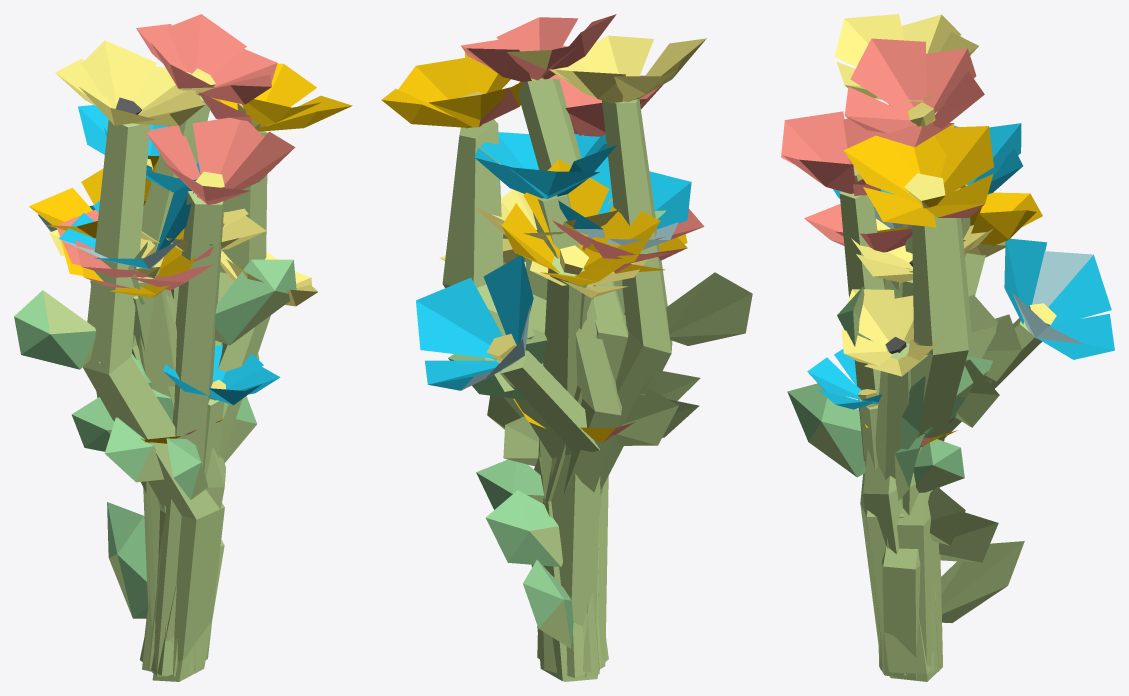
The model's file is pressed-flowers.glb.
The picture shows the model from 3 angles, left to right: view 1: azimuth 30°, elevation 25°; view 2: azimuth 150°, elevation 25°; view 3: azimuth 270°, elevation 25°; orthographic projection. The views are drawn at different scales.
Visible parts, largest first — view 1: paleflower1, redflower1, yellowflower3, redflower3, redflower2, blueflower1, paleflower3, yellowflower1, blueflower2, blueflower3, yellowflower2, paleflower2; view 2: blueflower2, yellowflower3, paleflower1, redflower3, yellowflower1, blueflower1, paleflower3, yellowflower2, redflower2, redflower1, paleflower2, blueflower3; view 3: yellowflower3, blueflower2, paleflower1, redflower3, redflower1, blueflower1, paleflower3, yellowflower1, blueflower3, paleflower2, yellowflower2, redflower2.
Part boxes in pixels (<box>): paleflower1: <box>14,40,317,661</box>; redflower1: <box>96,117,296,676</box>; yellowflower3: <box>59,63,352,626</box>; redflower3: <box>132,14,277,676</box>; redflower2: <box>56,209,224,670</box>; blueflower1: <box>59,178,225,661</box>; paleflower3: <box>98,208,266,676</box>; yellowflower1: <box>29,155,164,669</box>; blueflower2: <box>38,105,256,681</box>; blueflower3: <box>163,344,280,477</box>; yellowflower2: <box>141,418,223,599</box>; paleflower2: <box>49,229,192,675</box>; blueflower2: <box>416,132,666,681</box>; yellowflower3: <box>381,52,687,665</box>; paleflower1: <box>439,35,752,661</box>; redflower3: <box>461,14,628,681</box>; yellowflower1: <box>489,159,699,677</box>; blueflower1: <box>527,134,700,671</box>; paleflower3: <box>475,189,619,648</box>; yellowflower2: <box>485,398,634,566</box>; redflower2: <box>552,208,704,614</box>; redflower1: <box>502,45,663,676</box>; paleflower2: <box>448,253,647,665</box>; blueflower3: <box>503,416,538,466</box>; yellowflower3: <box>839,111,993,675</box>; blueflower2: <box>878,123,1114,680</box>; paleflower1: <box>834,14,992,673</box>; redflower3: <box>844,38,984,681</box>; redflower1: <box>781,104,892,473</box>; blueflower1: <box>787,189,997,662</box>; paleflower3: <box>851,218,1024,669</box>; yellowflower1: <box>858,185,1042,675</box>; blueflower3: <box>807,349,964,492</box>; paleflower2: <box>880,240,1005,666</box>; yellowflower2: <box>865,417,998,562</box>; redflower2: <box>804,204,912,675</box>.
Size of the model in its own units: 0.7253 by 1.31 by 0.6334.
